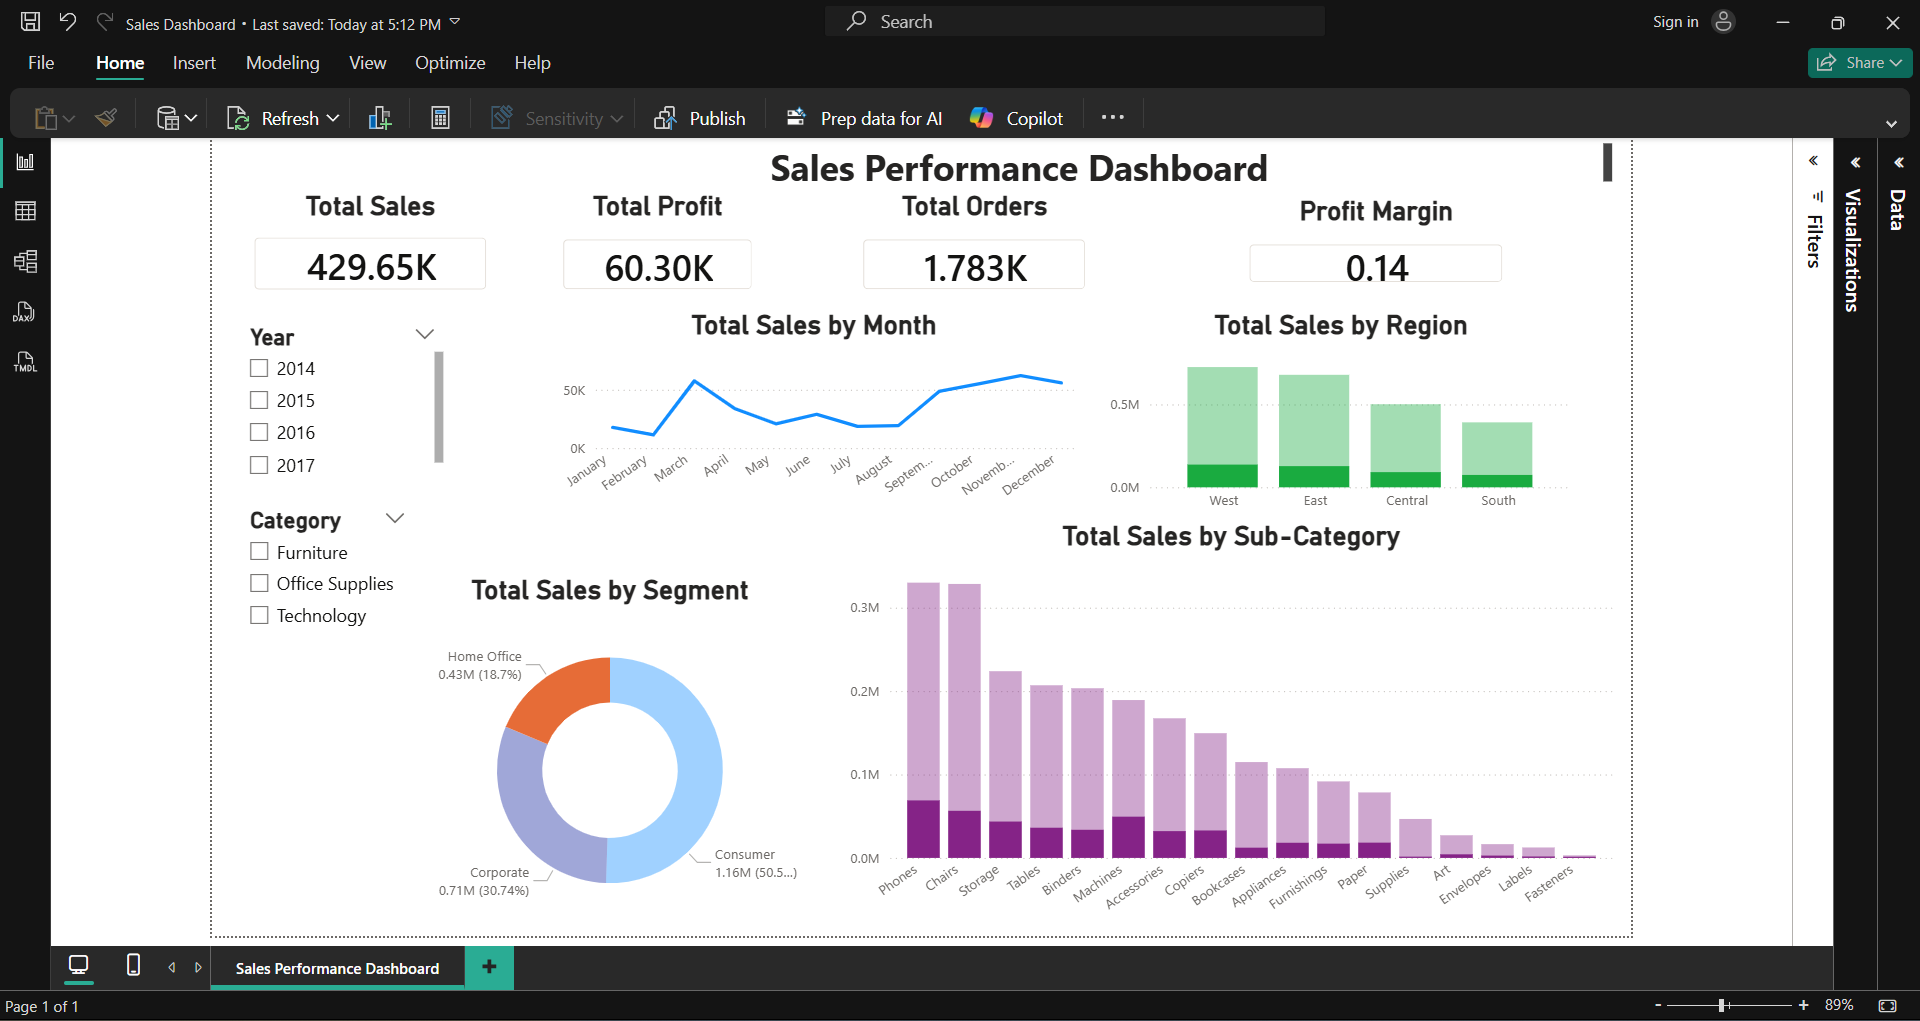

This screenshot's page, from the dashboard's own definition file:
{"tool":"powerbi","page":{"name":"Sales Performance Dashboard","canvas":[1280,720],"ordinal":0},"visuals":[{"type":"cardVisual","title":"Total Sales","fields":{"Data":["Sum(Orders$FilterDatabase.Sales)"]},"box":[20.9,47.7,243,107],"z":0},{"type":"cardVisual","title":"Total Profit","fields":{"Data":["Sum(Orders$FilterDatabase.Profit)"]},"box":[300,47.7,204.7,107],"z":1000},{"type":"cardVisual","title":"Total Orders","fields":{"Data":["CountNonNull(Orders$FilterDatabase.Order ID)"]},"box":[569.8,47.7,234.9,107],"z":2000},{"type":"cardVisual","title":"Profit Margin","fields":{"Data":["Orders$FilterDatabase.Profit Margin"]},"box":[918.6,52.3,262.8,95.3],"z":3000},{"type":"lineChart","title":"Total Sales by Month","fields":{"Category":["Orders$FilterDatabase.Order Date.Variation.Date Hierarchy.Month"],"Y":["Sum(Orders$FilterDatabase.Sales)"]},"box":[300,154.7,486,181.4],"z":4000},{"type":"clusteredColumnChart","title":"Total Sales by Region","fields":{"Category":["Orders$FilterDatabase.Region"],"Y":["Sum(Orders$FilterDatabase.Sales)"]},"box":[804.7,154.7,426.7,190.7],"z":5000},{"type":"clusteredColumnChart","title":"Total Sales by Sub-Category","fields":{"Category":["Orders$FilterDatabase.Sub-Category"],"Y":["Sum(Orders$FilterDatabase.Sales)"]},"box":[569.8,345.3,697.7,374.4],"z":6000},{"type":"slicer","fields":{"Values":["Orders$FilterDatabase.Order Date.Variation.Date Hierarchy.Year"]},"box":[20.9,162.8,191.9,147.7],"z":8000},{"type":"slicer","fields":{"Values":["Orders$FilterDatabase.Category"]},"box":[20.9,327.9,165.1,129.1],"z":9000},{"type":"textbox","box":[196.4,0,1071.5,48.1],"z":10000},{"type":"donutChart","title":"Total Sales by Segment","fields":{"Category":["Orders$FilterDatabase.Segment"],"Y":["Sum(Orders$FilterDatabase.Sales)"]},"box":[174.4,393,368.6,326.7],"z":10001}]}

Visuals, with their boxes on the page's 1280x720 design canvas (x1, y1, x2, y2). These are canvas units, not pixel positions in the 1920x1021 screenshot, which may show the page scaled, cropped or inside an application window:
"Total Sales" cardVisual: Rect(21, 48, 264, 155)
"Total Profit" cardVisual: Rect(300, 48, 505, 155)
"Total Orders" cardVisual: Rect(570, 48, 805, 155)
"Profit Margin" cardVisual: Rect(919, 52, 1181, 148)
"Total Sales by Month" lineChart: Rect(300, 155, 786, 336)
"Total Sales by Region" clusteredColumnChart: Rect(805, 155, 1231, 345)
"Total Sales by Sub-Category" clusteredColumnChart: Rect(570, 345, 1268, 720)
slicer - Orders$FilterDatabase.Order Date.Variation.Date Hierarchy.Year: Rect(21, 163, 213, 310)
slicer - Orders$FilterDatabase.Category: Rect(21, 328, 186, 457)
textbox: Rect(196, 0, 1268, 48)
"Total Sales by Segment" donutChart: Rect(174, 393, 543, 720)
